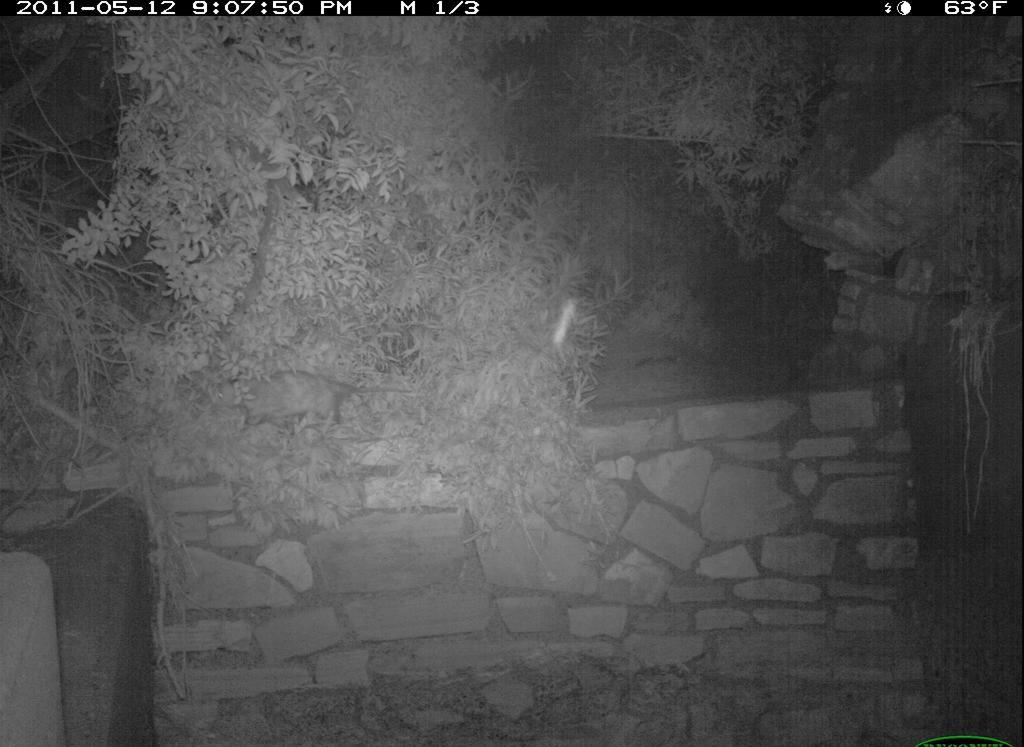opossum: (204, 367, 415, 452)
